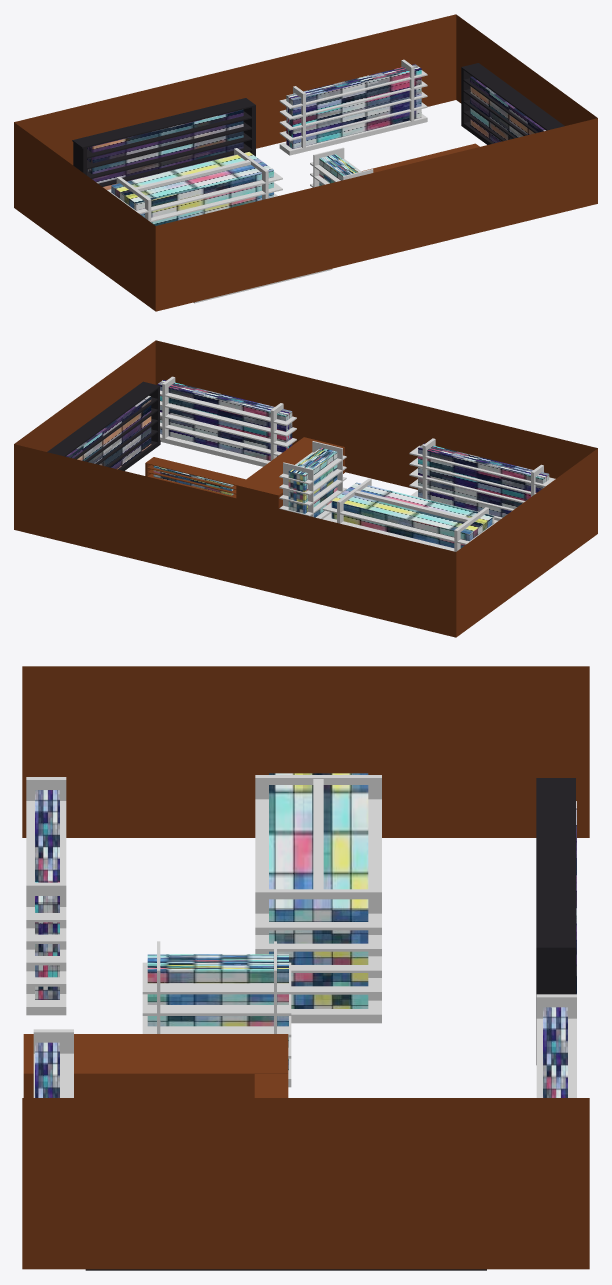
Rendered from NuecesMartFullCombined.fbx.
The picture shows the model from 3 angles, top to bottom: view 1: azimuth 30°, elevation 25°; view 2: azimuth 150°, elevation 25°; view 3: azimuth 270°, elevation 25°; orthographic projection. The views are drawn at different scales.
Visible parts, largest first — view 1: Walls; view 2: Walls; view 3: Walls.
Boxes of the visible parts, left/top/right/bottom form: Walls: left=14, top=14, right=597, bottom=311; Walls: left=14, top=340, right=597, bottom=637; Walls: left=22, top=666, right=589, bottom=1270.
Size of the model in its own units: 5400 by 1025 by 3000.
Materials: 16 (8 with a texture image).
